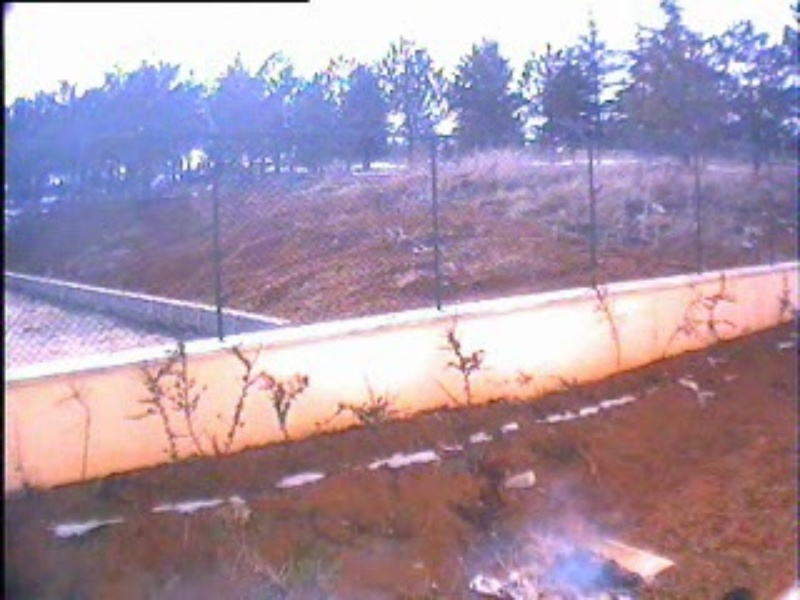smoke: (489, 511, 615, 594)
